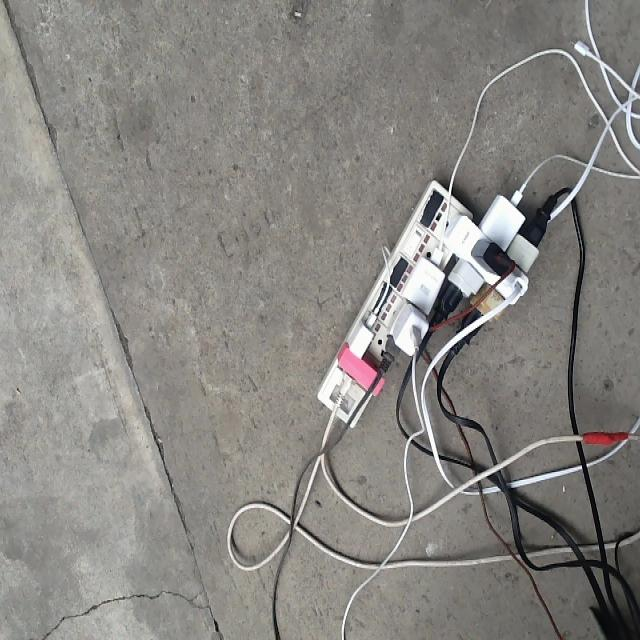-: (317, 175, 538, 428)
